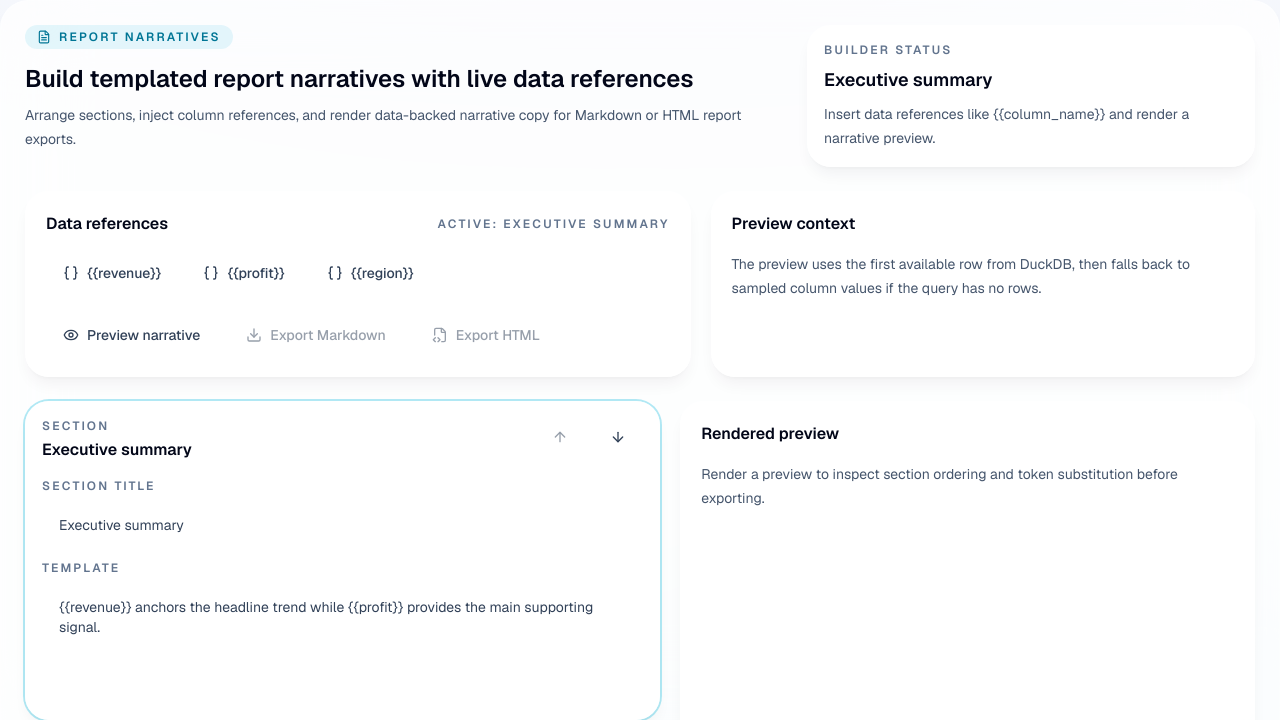
Test: ReportNarrativeBuilder › reorders sections and renders preview text with data references
Step 1. Click the button named "Move Executive summary down" → (618, 437), box left=593, top=418, right=643, bottom=456
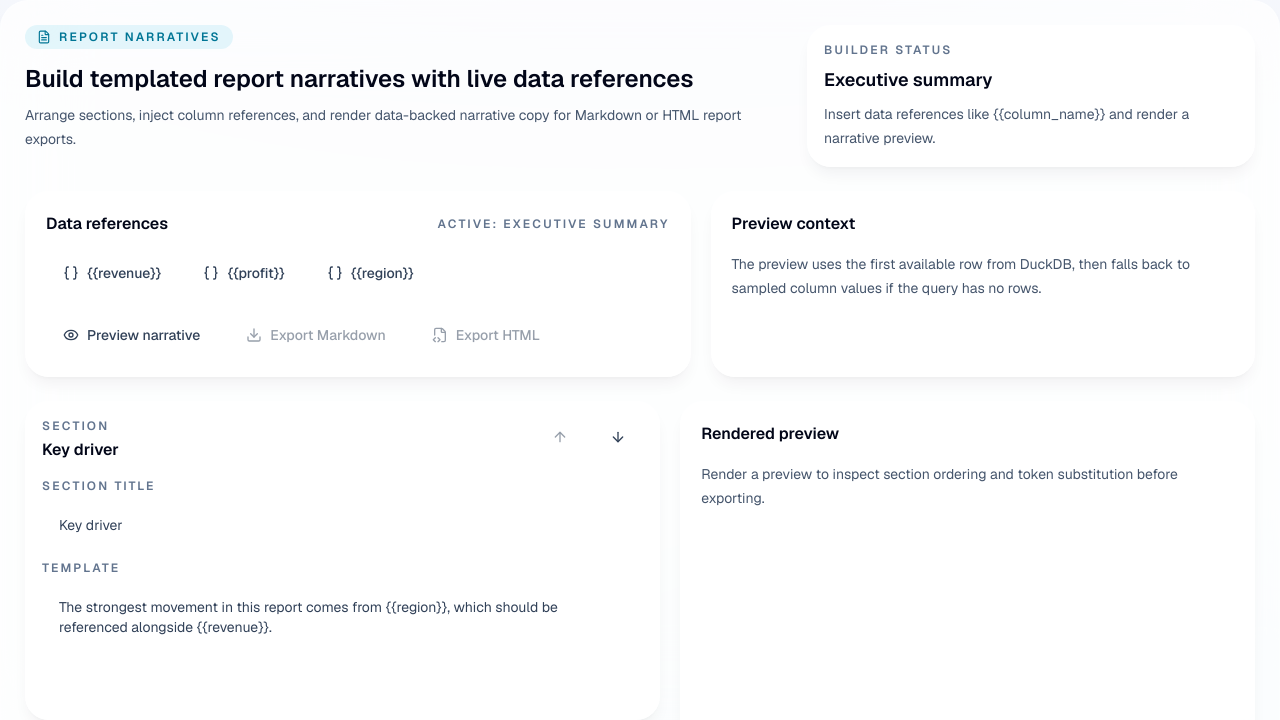
Step 2. Click the button "{{region}}" → (370, 273), box left=310, top=252, right=431, bottom=294
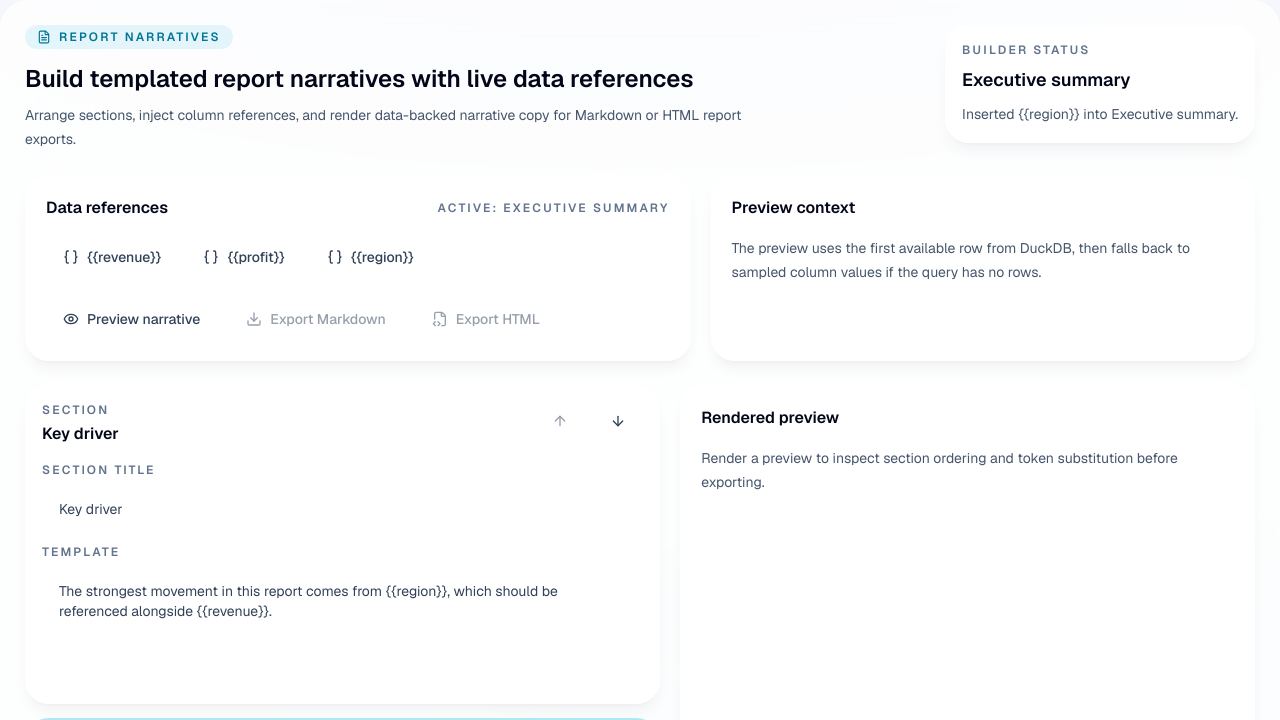
Step 3. Click the button "Preview narrative" → (132, 319), box left=46, top=298, right=217, bottom=340
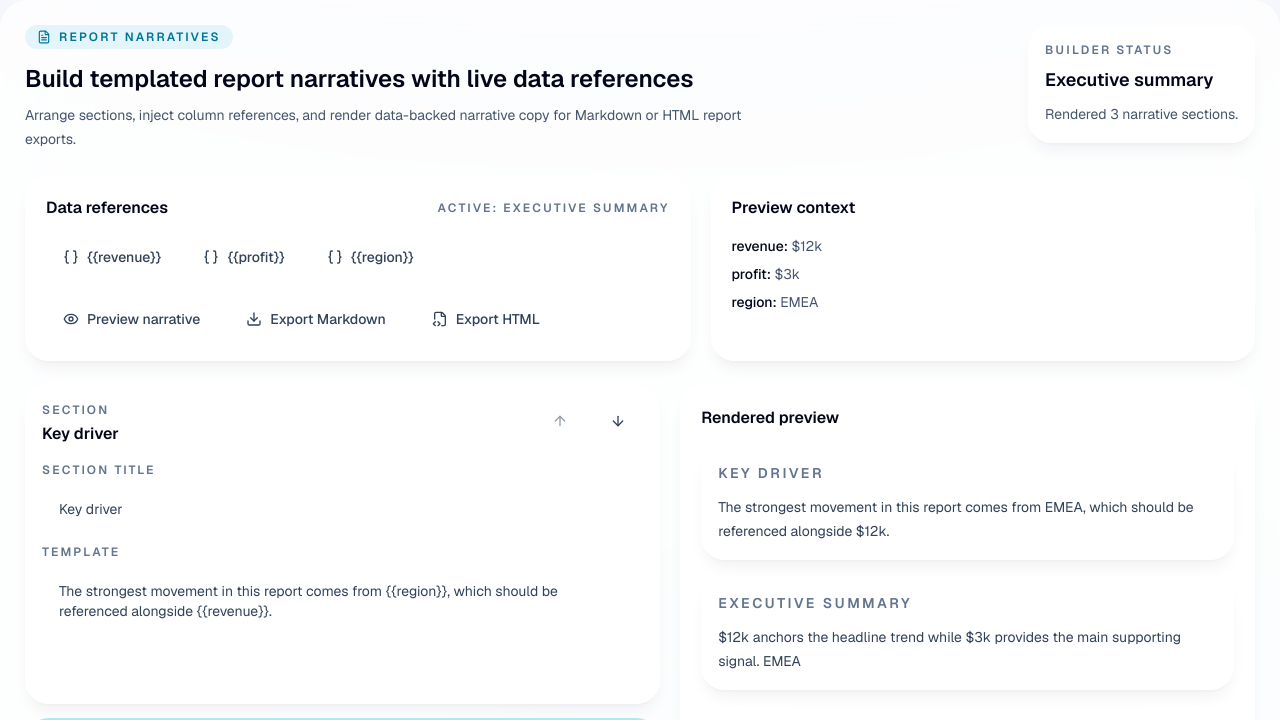
Expected: the text "Executive summary" is shown, left=1045, top=66, right=1238, bottom=94
Now the text "Key driver" is shown, box left=42, top=422, right=119, bottom=446
Now the text "region: EMEA" is shown, box left=732, top=293, right=818, bottom=311
